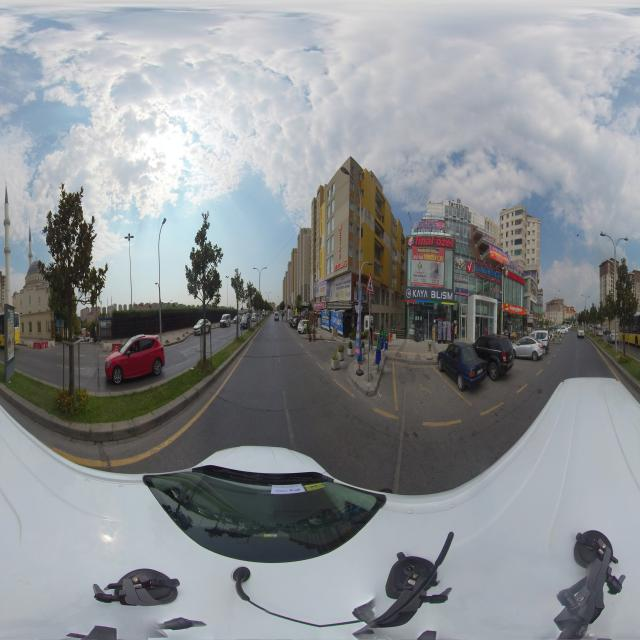SignStore: (439, 195, 473, 219), (407, 234, 453, 249), (475, 262, 502, 284), (405, 288, 453, 300), (478, 222, 497, 245), (505, 268, 525, 285), (510, 259, 523, 274), (504, 304, 523, 313), (479, 288, 494, 298), (313, 301, 326, 310), (527, 318, 533, 323), (538, 289, 543, 295), (527, 314, 533, 318)
